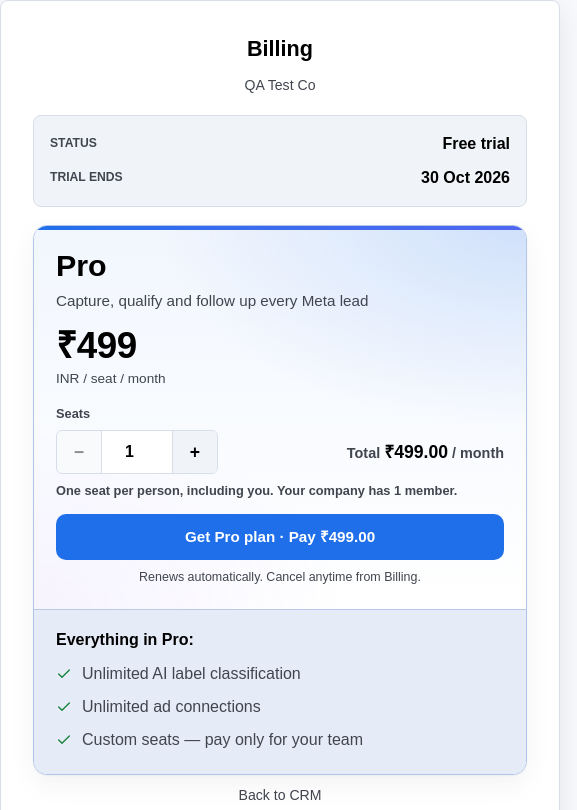
Test: BillingPageClient: after payment › keeps waiting well past the old 30 seconds, then opens the CRM when the plan activates
The image size is (577, 810).
Step 1. Click the button "Get Pro plan · Pay ₹499.00" → (280, 537), box [56,514,504,560]
Wait 620000 ms
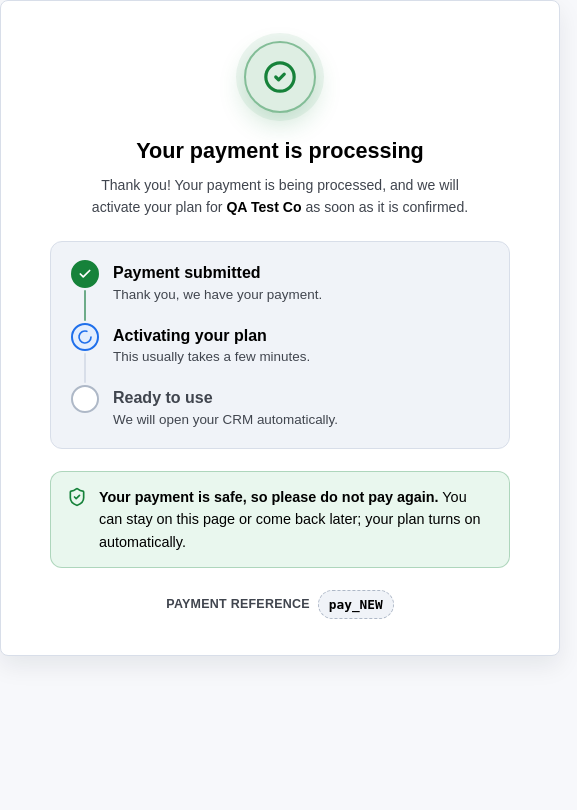
Check: the heading "Your payment is processing" is shown, box [136,138,424,163]
